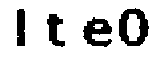0: (116, 5, 151, 48)
e: (78, 15, 114, 52)
l: (13, 6, 33, 49)
t: (42, 12, 69, 53)
